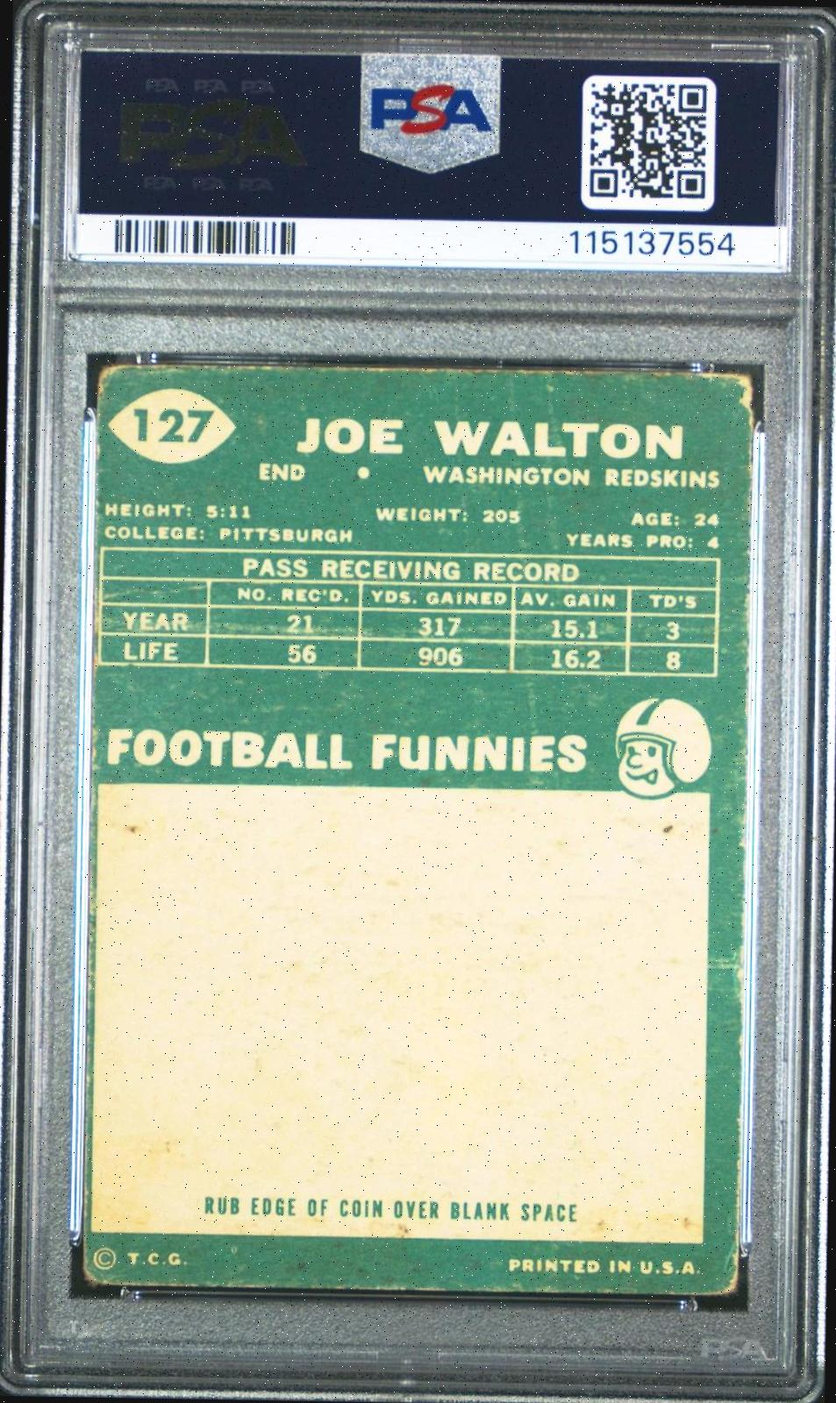card-2UtV: (81, 362, 754, 1296)
